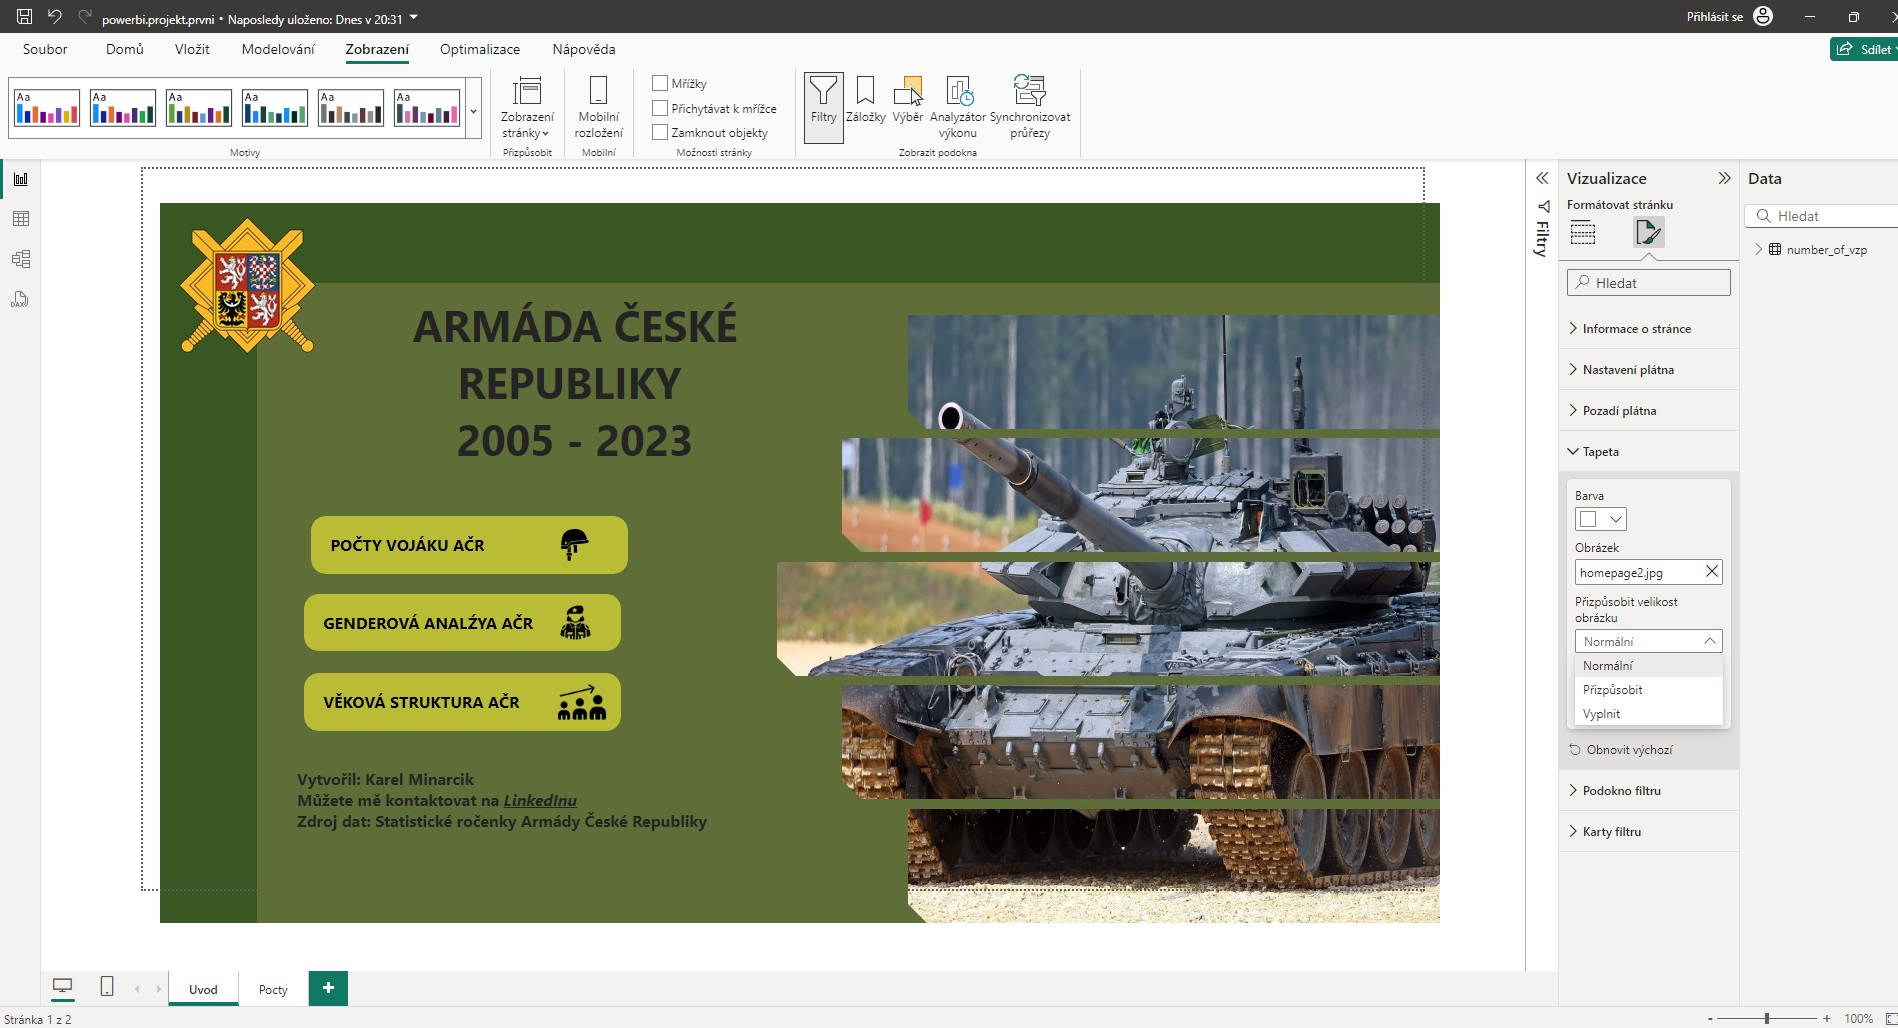

This screenshot's page, from the dashboard's own definition file:
{"tool":"powerbi","page":{"name":"Domů","canvas":[1280,720],"ordinal":0},"visuals":[{"type":"actionButton","box":[8.4,20.5,118.2,113.4],"z":0},{"type":"actionButton","box":[7.2,205.1,119.4,119.4],"z":1000},{"type":"actionButton","box":[7.2,445.2,120.6,120.6],"z":2000},{"type":"actionButton","box":[8.4,323.3,119.4,119.4],"z":3000}]}

Visuals, with their boxes on the page's 1280x720 design canvas (x1, y1, x2, y2). These are canvas units, not pixel positions in the 1898x1028 screenshot, which may show the page scaled, cropped or inside an application window:
actionButton: <box>8,20,127,134</box>
actionButton: <box>7,205,127,324</box>
actionButton: <box>7,445,128,566</box>
actionButton: <box>8,323,128,443</box>
